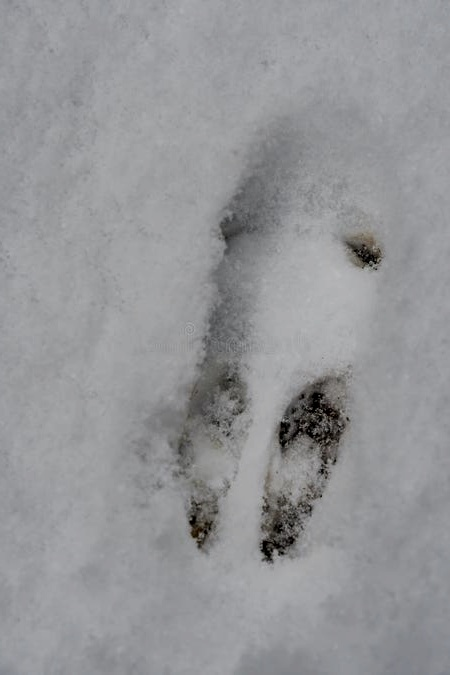rabbit: (116, 151, 421, 592)
